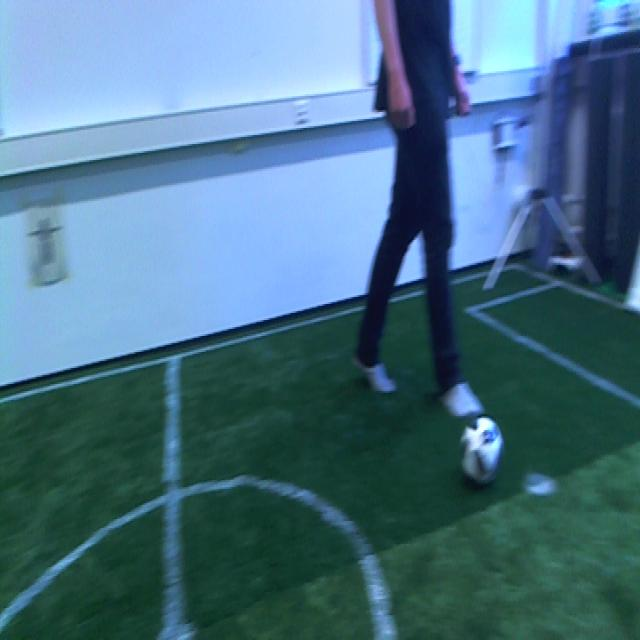ball: (461, 416, 503, 485)
